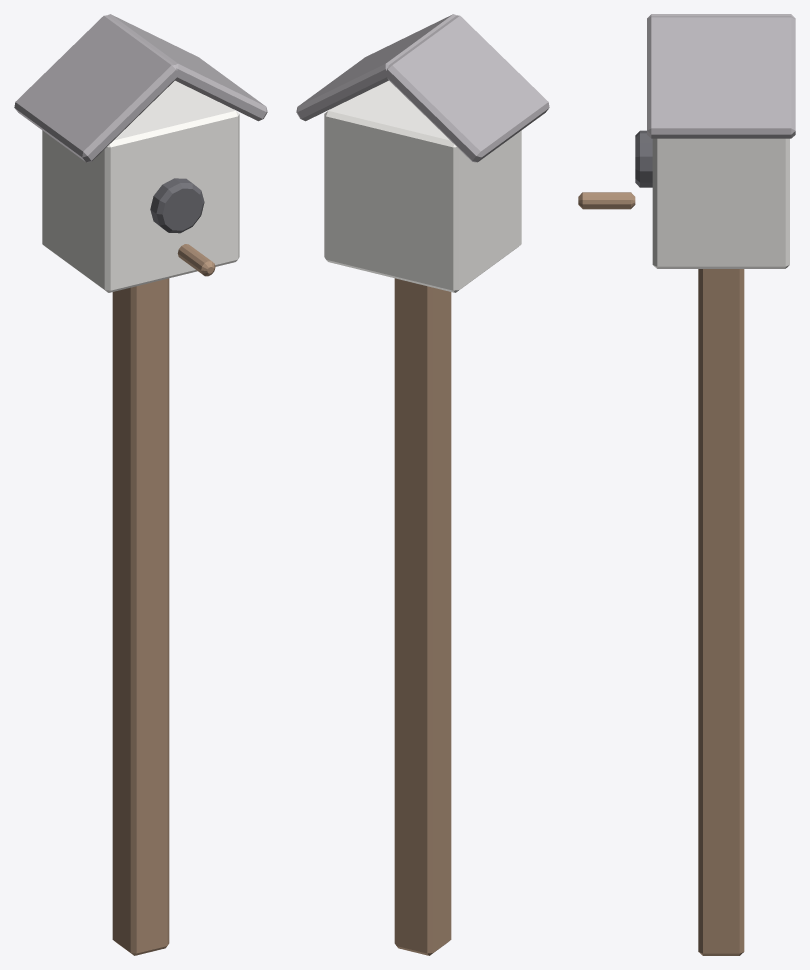
Rendered from SM_Birdhouse.fbx.
3 renders of one model, left to right at view 1: azimuth 30°, elevation 25°; view 2: azimuth 150°, elevation 25°; view 3: azimuth 270°, elevation 25°, orthographic. The views are drawn at different scales.
Visible parts, largest first — view 1: Birdhouse; view 2: Birdhouse; view 3: Birdhouse.
Boxes of the visible parts, <box> form: Birdhouse: <box>14,14,267,955</box>; Birdhouse: <box>296,14,549,955</box>; Birdhouse: <box>578,14,795,955</box>.
Size of the model in its own units: 38.46 by 180 by 38.
